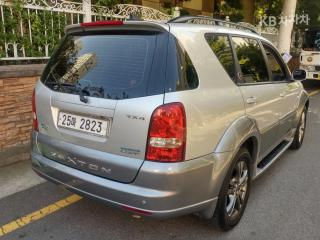2: (79, 118, 85, 130), (91, 120, 97, 132), (61, 114, 67, 125)
3: (97, 120, 102, 133)
5: (67, 114, 72, 126)
8: (85, 118, 91, 131)
마: (71, 117, 78, 129)
